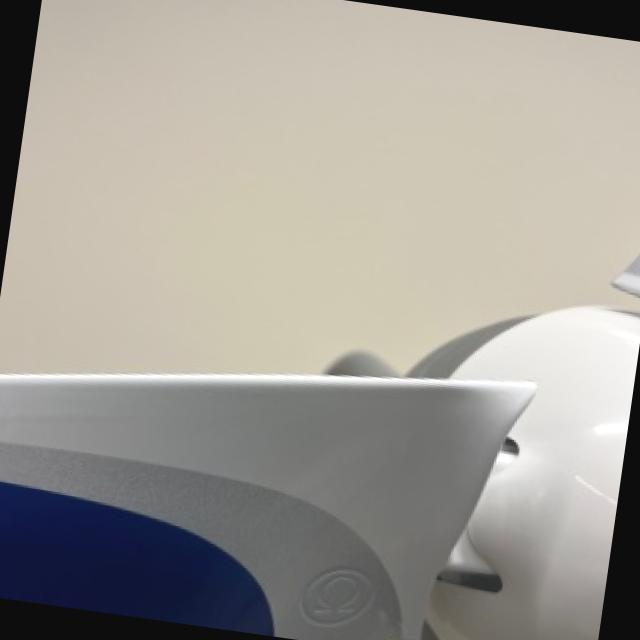healthy: (0, 304, 640, 640)
